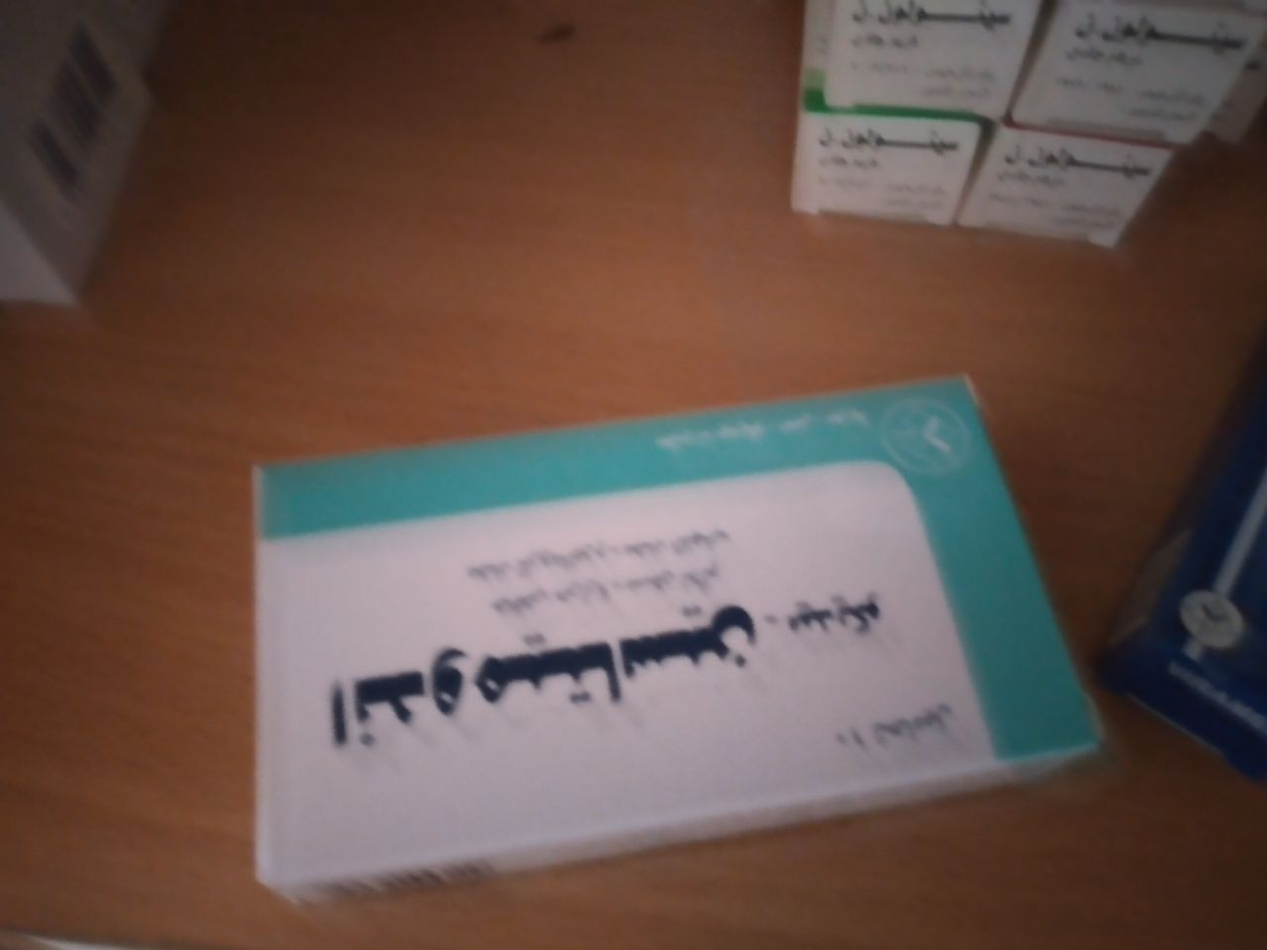Medicine: (243, 383, 1119, 876), (1114, 173, 1267, 769)
